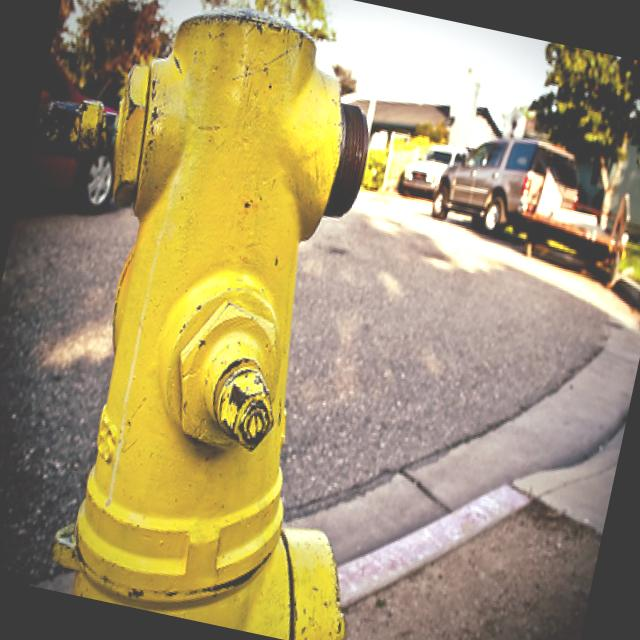Vehicle: (434, 127, 596, 240), (19, 95, 127, 216), (397, 134, 472, 207)
